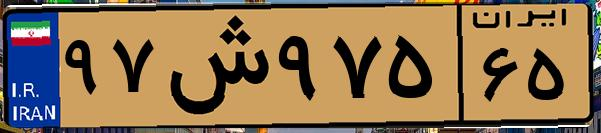5: (385, 28, 445, 110), (525, 38, 570, 115)
6: (475, 38, 525, 113)
7: (330, 28, 385, 110), (110, 28, 158, 98)
9: (270, 28, 330, 110), (57, 26, 110, 100)
ش: (158, 12, 270, 120)
